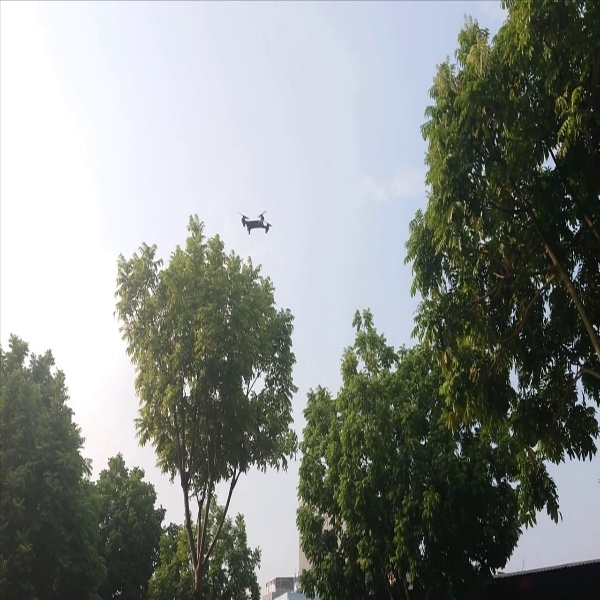drone: (232, 205, 281, 246)
